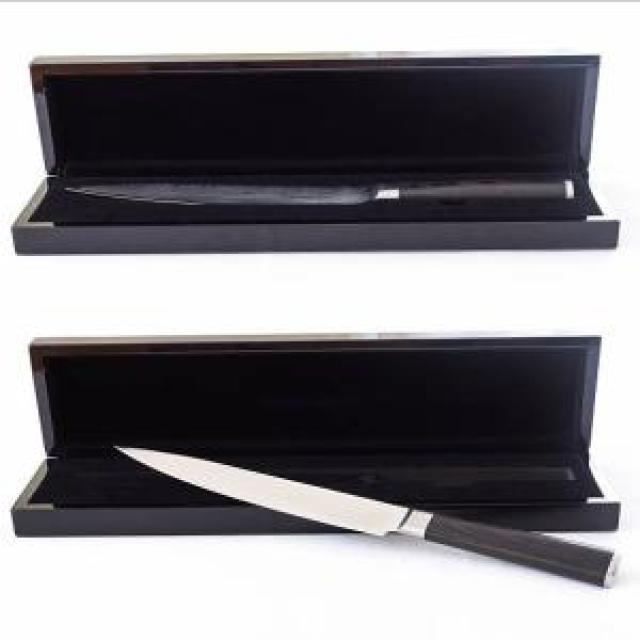knife: (113, 442, 625, 591)
